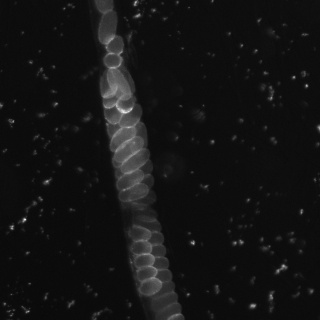embryo: (107, 68, 132, 100), (113, 65, 137, 95), (114, 137, 144, 161), (122, 147, 150, 172), (111, 125, 136, 152), (118, 103, 143, 128), (98, 11, 116, 45), (118, 183, 149, 202), (117, 170, 143, 191), (151, 291, 178, 310), (99, 69, 117, 97), (131, 173, 154, 194), (131, 123, 147, 153), (129, 189, 157, 206), (131, 160, 152, 182), (104, 101, 124, 124), (133, 205, 158, 223), (116, 93, 137, 114), (104, 86, 123, 109), (134, 217, 162, 232), (139, 277, 161, 296), (152, 280, 175, 298), (108, 113, 124, 136), (106, 35, 123, 55), (129, 226, 150, 242), (131, 240, 152, 256), (145, 243, 166, 259), (134, 253, 155, 269), (138, 265, 157, 282), (143, 231, 163, 247), (149, 255, 169, 271), (104, 53, 123, 69), (153, 267, 172, 283), (113, 156, 125, 168), (115, 167, 126, 180)
